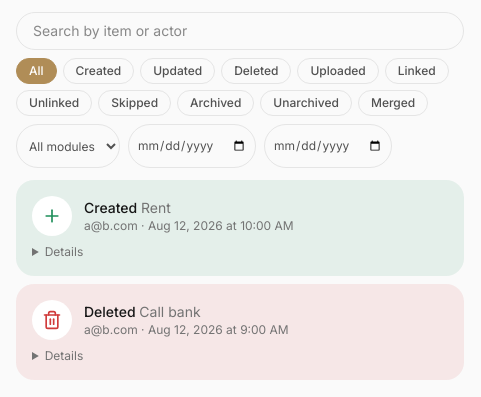
Test: ActivityLogList › filters entries by action chip
The width and height of the screenshot is (481, 397).
Click the button with test id "activity-filter-delete" at [256, 71], box [221, 58, 291, 84]
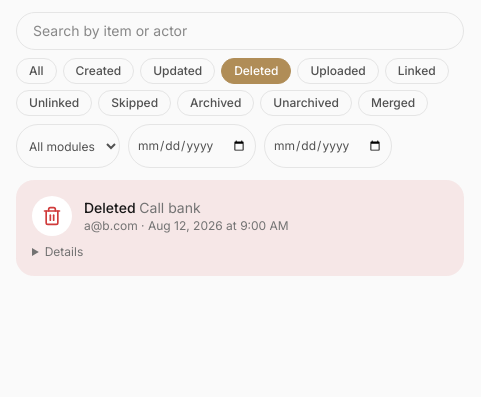
Check: the number of elements with test id "activity-log-entry" is 1, box [16, 180, 464, 276]
